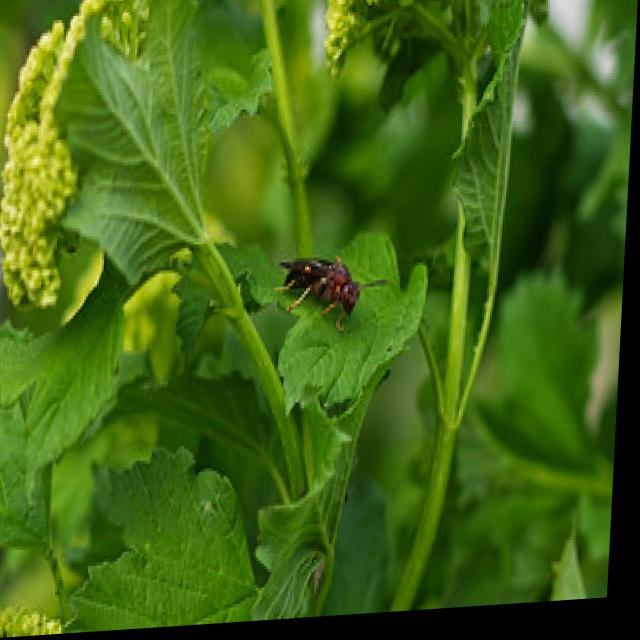Guepe: (273, 237, 401, 335)
